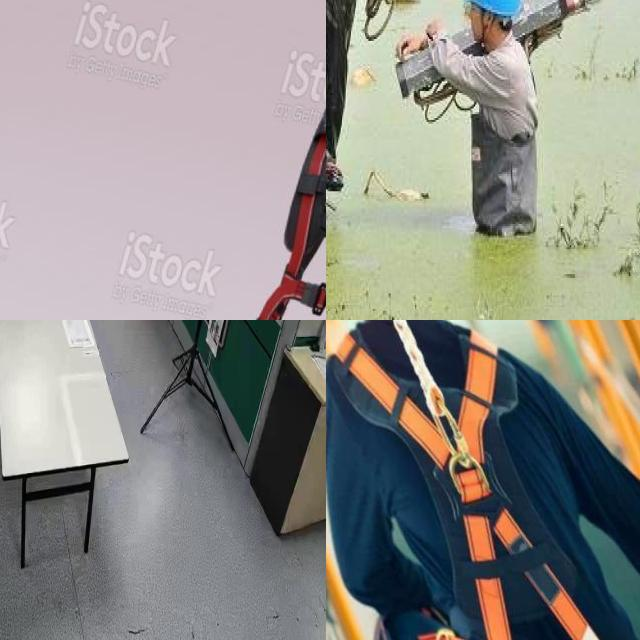Harness: (327, 325, 596, 640)
No_Ear-Protection: (467, 0, 514, 54)
